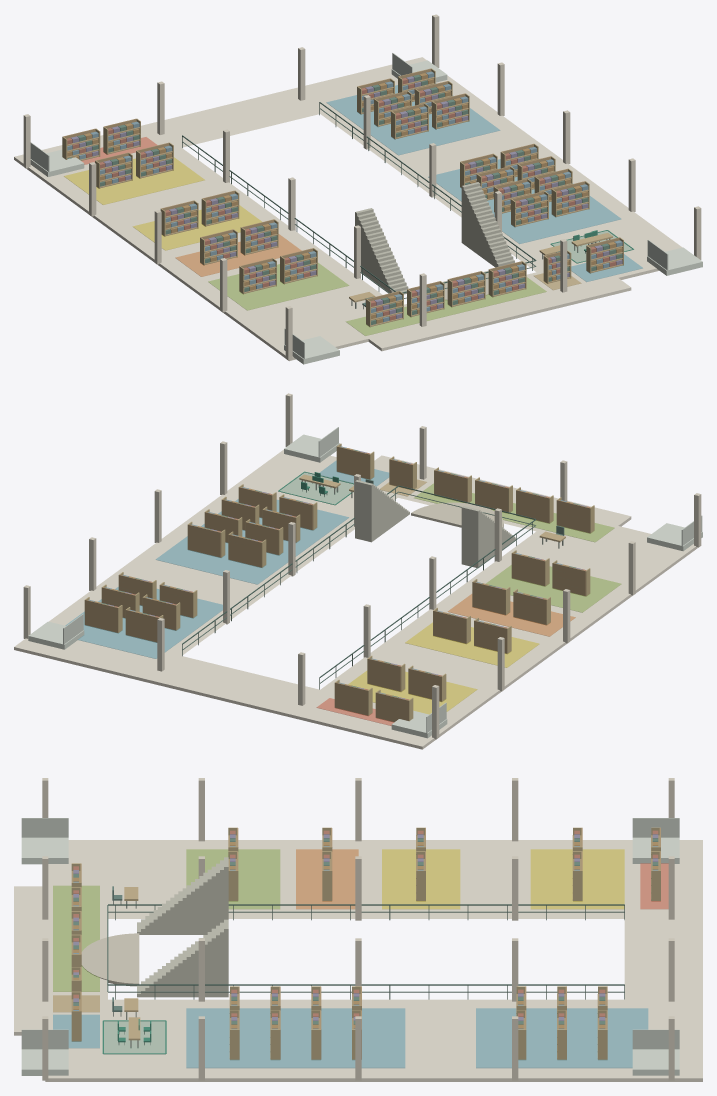
File: 图书馆_2楼_试点启用.glb
The picture shows the model from 3 angles, top to bottom: view 1: azimuth 30°, elevation 25°; view 2: azimuth 150°, elevation 25°; view 3: azimuth 270°, elevation 25°; orthographic projection. The views are drawn at different scales.
Visible parts, largest first — view 1: guide_outline_floor_slab, guide_function_tint (×8), corner_service_room (×3); view 2: guide_outline_floor_slab, rack_back (×29), guide_function_tint (×8), corner_service_room (×4), central_stair_tread (×2), photo_guided_curved_landing, proposed_candidate_zone; view 3: guide_outline_floor_slab, guide_function_tint (×10), corner_service_room (×4), service_partition (×4), photo_guided_curved_landing, atrium_rail_top (×2), atrium_rail_lower (×2), proposed_candidate_zone.
Boxes of the visible parts, left/top/right/bottom form: guide_outline_floor_slab: left=14, top=57, right=682, bottom=360; guide_function_tint (×8): left=64, top=83, right=642, bottom=335; corner_service_room (×3): left=30, top=149, right=702, bottom=364; guide_outline_floor_slab: left=14, top=449, right=697, bottom=749; rack_back (×29): left=85, top=446, right=589, bottom=722; guide_function_tint (×8): left=65, top=460, right=621, bottom=714; corner_service_room (×4): left=28, top=434, right=702, bottom=738; central_stair_tread (×2): left=355, top=480, right=480, bottom=567; photo_guided_curved_landing: left=411, top=502, right=503, bottom=528; proposed_candidate_zone: left=280, top=472, right=353, bottom=503; guide_outline_floor_slab: left=14, top=840, right=702, bottom=1081; guide_function_tint (×10): left=53, top=849, right=668, bottom=1068; corner_service_room (×4): left=21, top=837, right=679, bottom=1075; service_partition (×4): left=21, top=818, right=679, bottom=1049; photo_guided_curved_landing: left=81, top=933, right=139, bottom=986; atrium_rail_top (×2): left=108, top=904, right=624, bottom=985; atrium_rail_lower (×2): left=108, top=911, right=624, bottom=992; proposed_candidate_zone: left=104, top=1021, right=164, bottom=1052.
Bounding box in the file's own units: 36.4 × 4.9 × 44.
